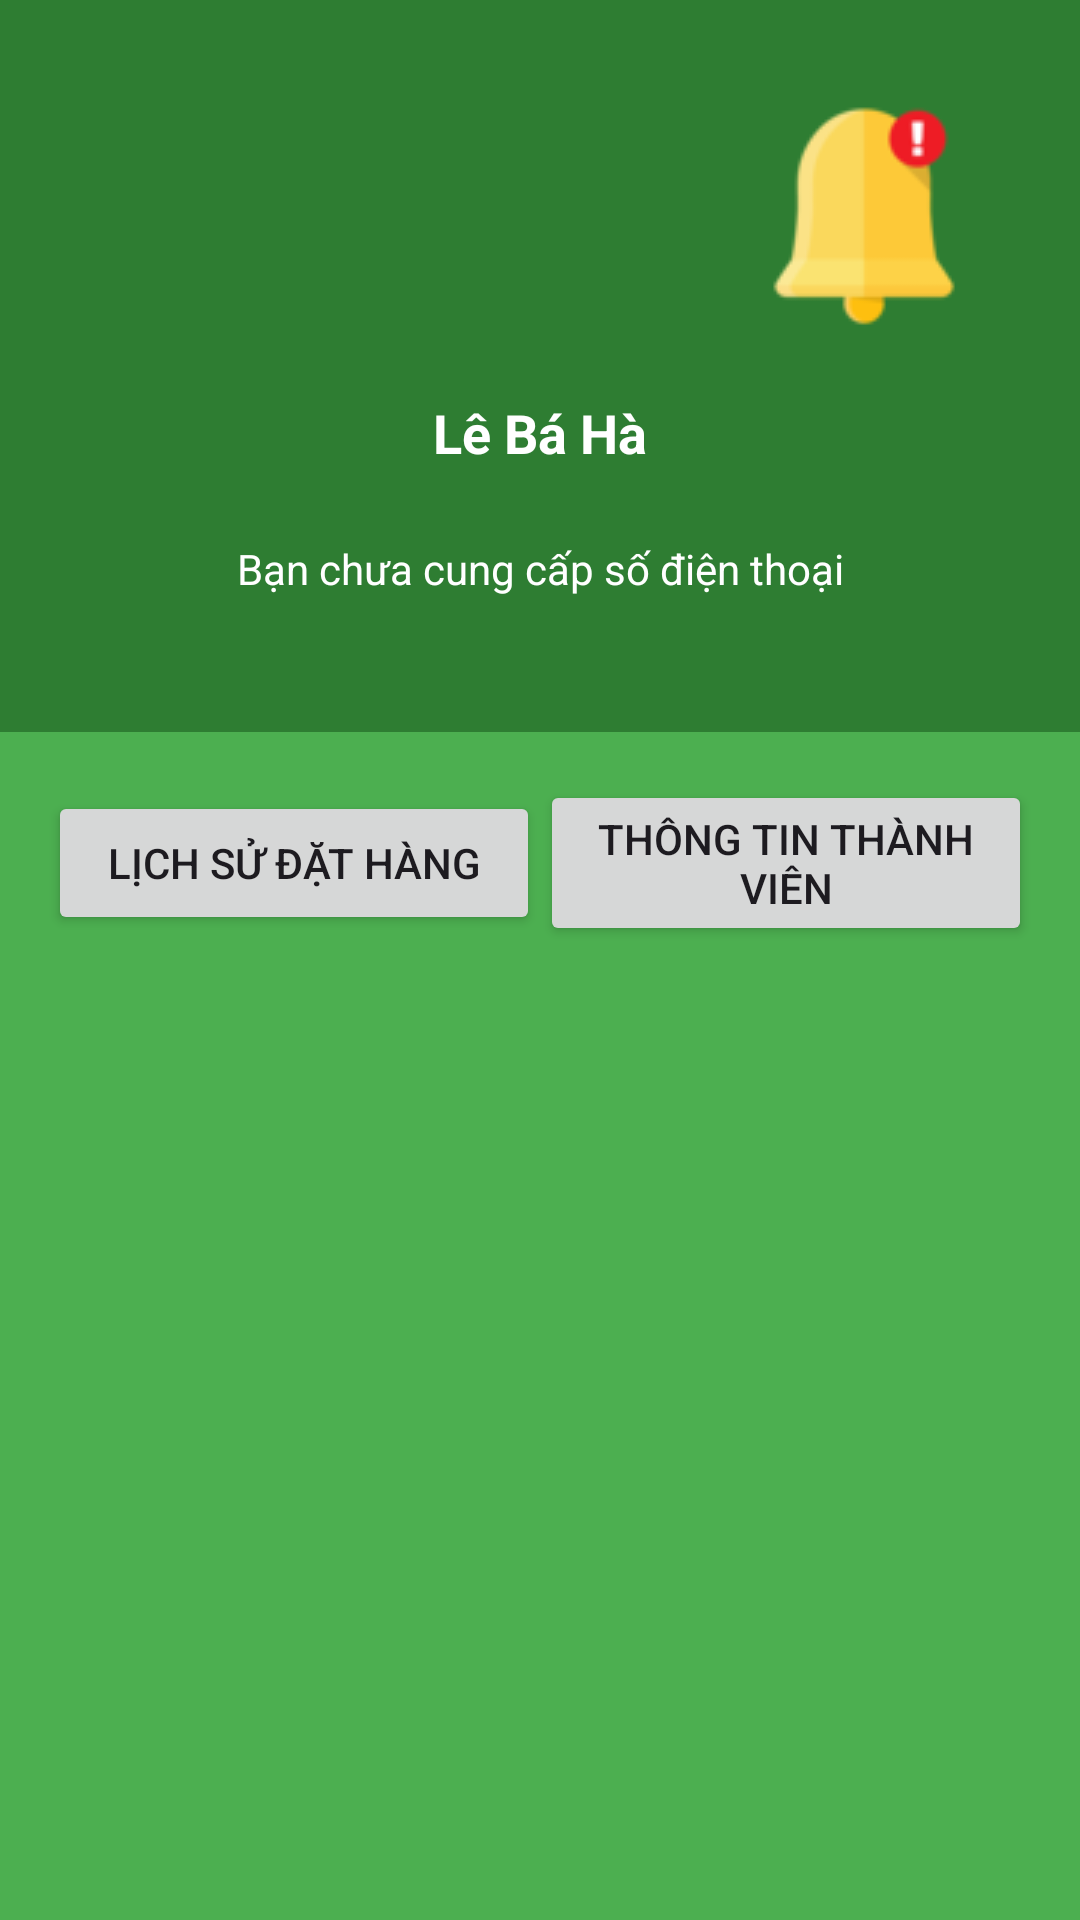

Icons on this 1080×1920 Android screen, each with the point to tap as point (x, y):
notififcation: point (864, 216)
